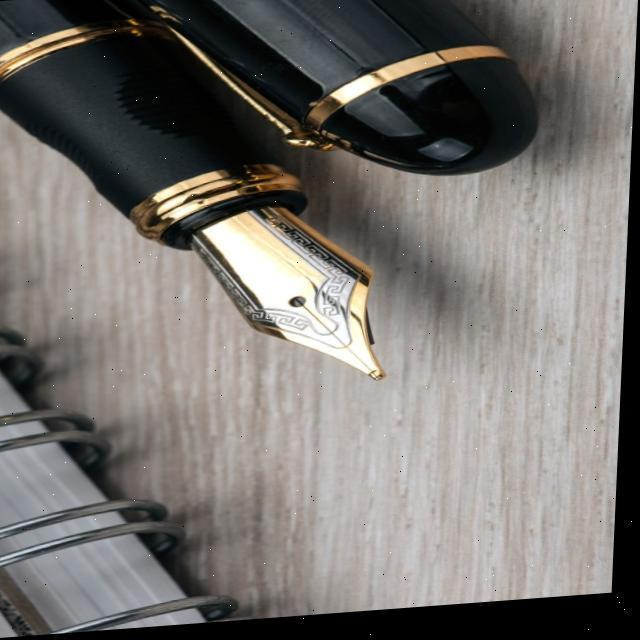Pen - Non Recyclable: (0, 0, 406, 410)
